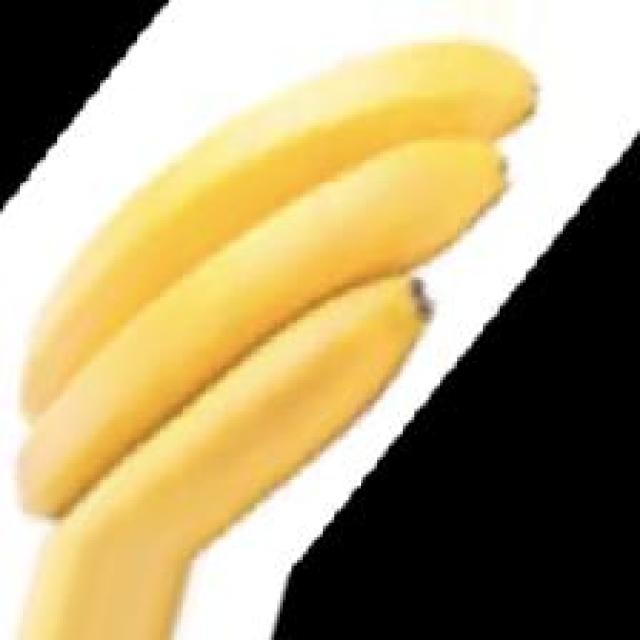banana: (0, 48, 551, 640)
